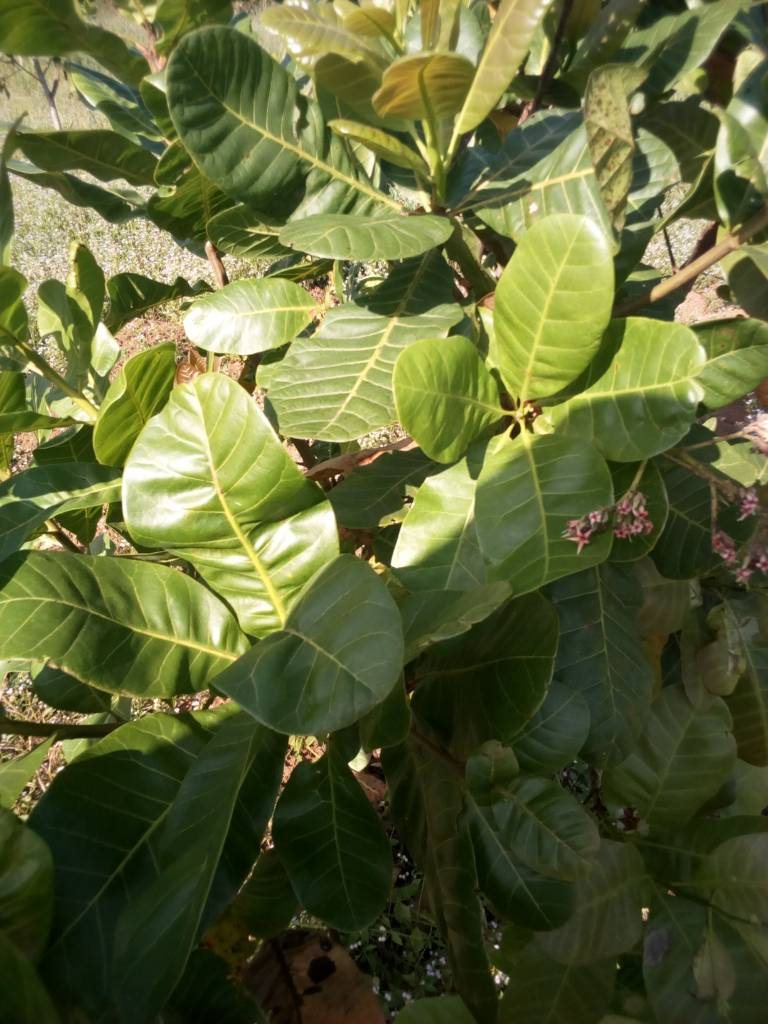Helopeltis anacardii: (149, 382, 321, 608), (1, 582, 221, 677)
